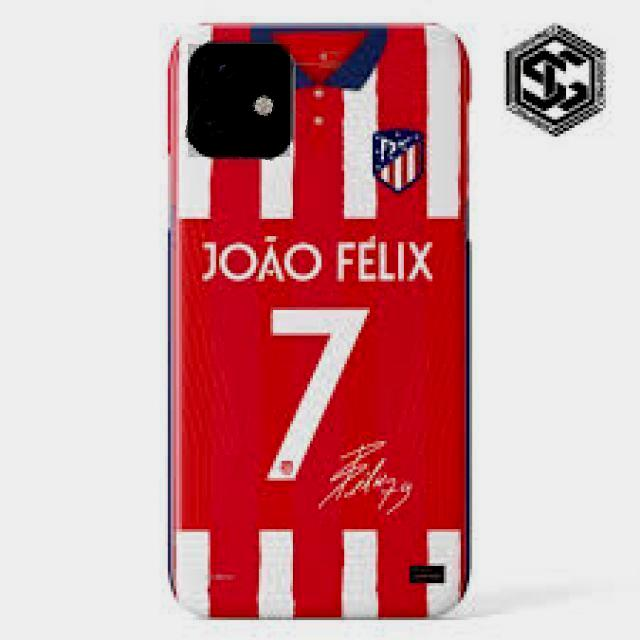lens: (188, 44, 290, 157)
phone: (165, 22, 471, 619)
